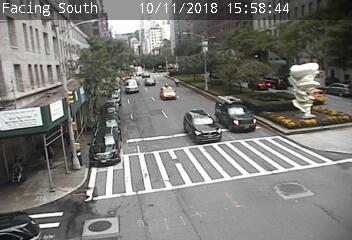car: (216, 97, 257, 132), (184, 110, 221, 143), (160, 86, 176, 100), (145, 78, 155, 86), (142, 73, 150, 78)
